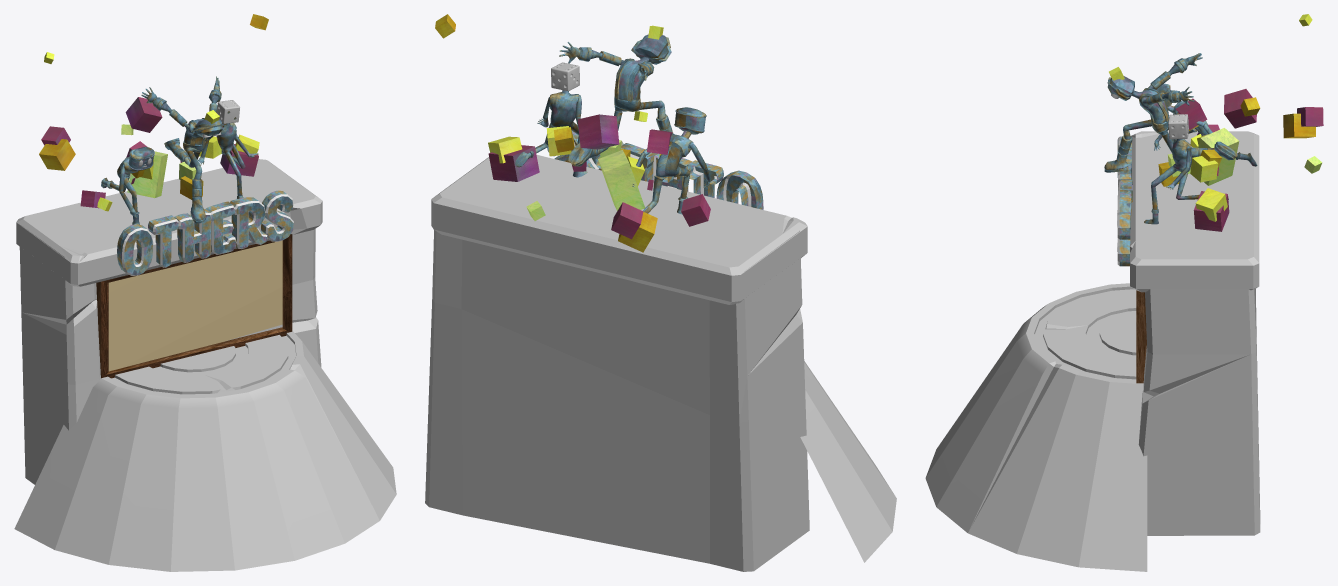
File: Str_Stand_Others_01_Art.fbx
3 renders of one model, left to right at view 1: azimuth 30°, elevation 25°; view 2: azimuth 150°, elevation 25°; view 3: azimuth 270°, elevation 25°, orthographic. The views are drawn at different scales.
Parts seen in each view (by area): view 1: Str_Stand_Others_01; view 2: Str_Stand_Others_01; view 3: Str_Stand_Others_01.
Boxes of the visible parts, box(x1,y1,x2,y2) form: Str_Stand_Others_01: box(14, 14, 396, 571); Str_Stand_Others_01: box(425, 14, 896, 571); Str_Stand_Others_01: box(925, 14, 1323, 571).
Size of the model in its own units: 1541 by 1687 by 1383.
